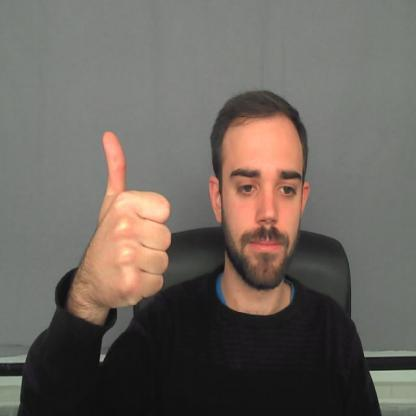thumbs-up: (87, 131, 173, 314)
